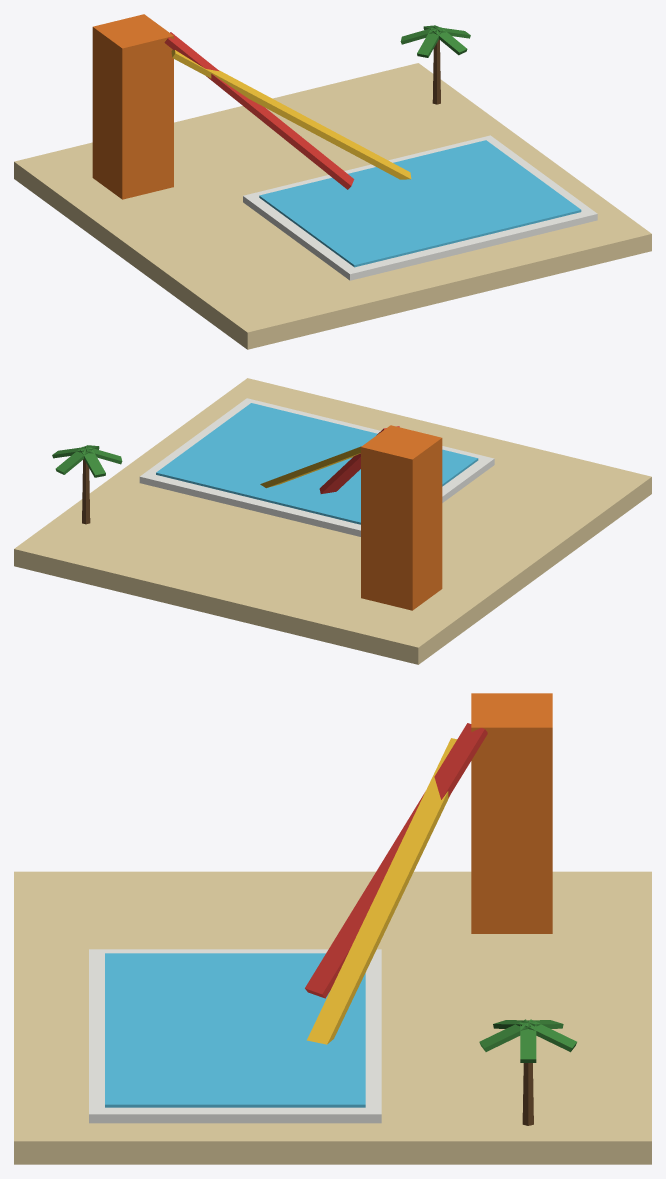
Rendered from tourism_special_2.glb.
3 renders of one model, top to bottom at view 1: azimuth 30°, elevation 25°; view 2: azimuth 150°, elevation 25°; view 3: azimuth 270°, elevation 25°, orthographic. The views are drawn at different scales.
Parts seen in each view (by area): view 1: tourism_special_2; view 2: tourism_special_2; view 3: tourism_special_2.
Part boxes in pixels (left/top/right/bottom): tourism_special_2: left=14, top=14, right=651, bottom=349; tourism_special_2: left=14, top=378, right=651, bottom=664; tourism_special_2: left=14, top=693, right=651, bottom=1164.
Bounding box in the file's own units: 1.98 × 0.78 × 1.96.
